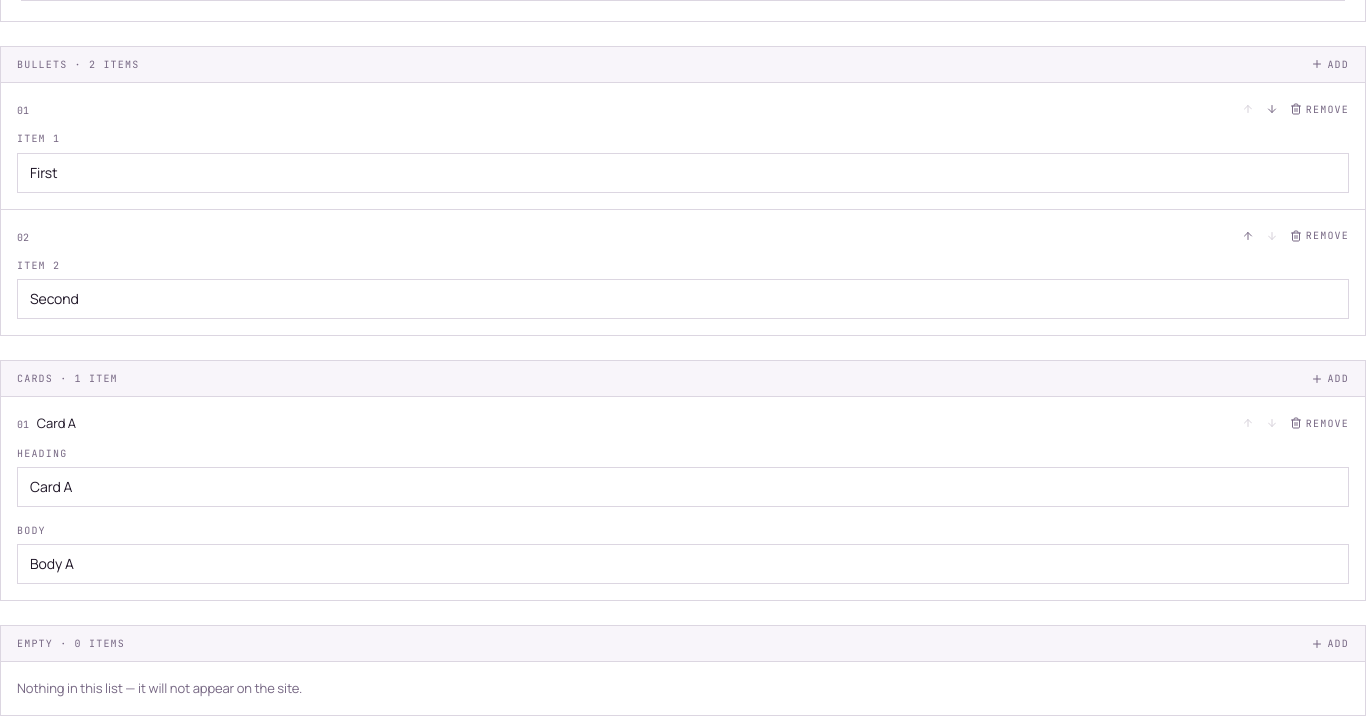
Test: ContentEditor › uses the template for lists whose default is empty
(page scrolled)
Click the button "Add" in the row of "Empty" at [1330, 644], box left=1311, top=636, right=1349, bottom=651
(page scrolled)
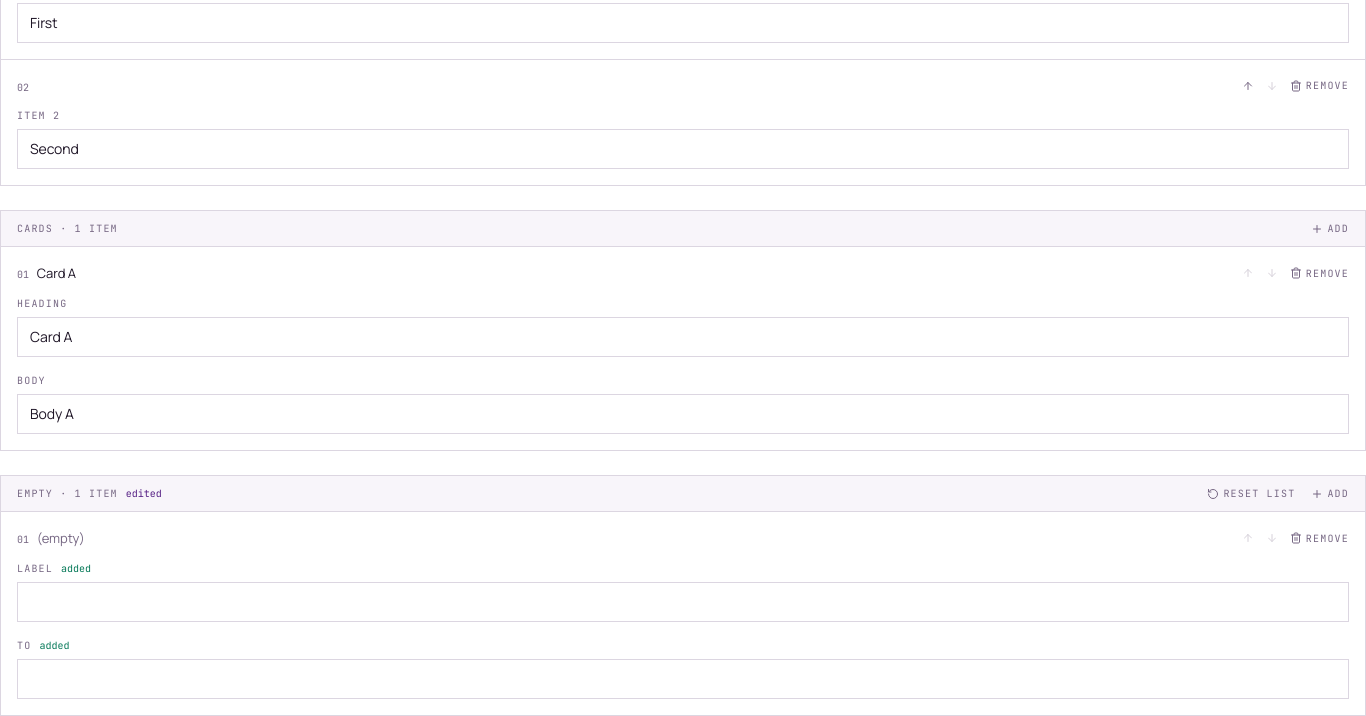
Expected: the text "Label" is shown, left=17, top=562, right=53, bottom=574
Expected: the text "To" is shown, left=17, top=639, right=31, bottom=652
